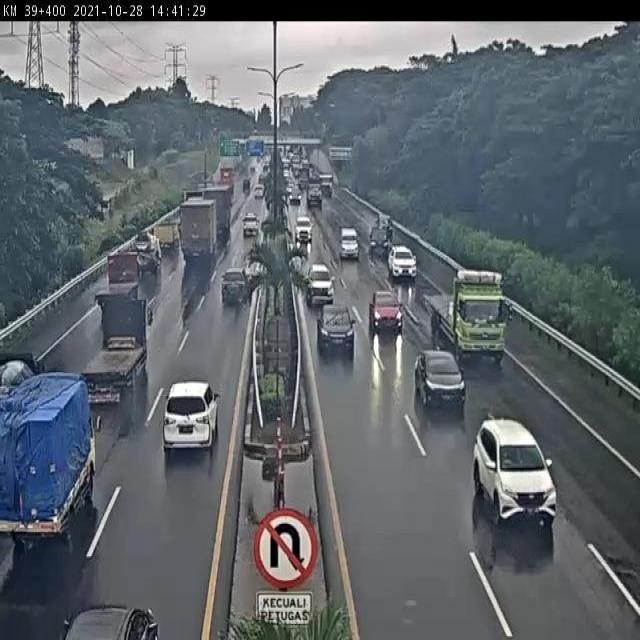car: (473, 418, 558, 526), (160, 379, 219, 452), (415, 350, 466, 410), (316, 304, 354, 355), (368, 289, 402, 336), (305, 264, 334, 305), (221, 268, 248, 305), (388, 245, 417, 279), (340, 227, 359, 257), (369, 229, 388, 255), (295, 217, 313, 243)
mid truck: (422, 269, 506, 363), (180, 199, 218, 257)
small truck: (153, 221, 179, 252)
truck-m-: (0, 368, 103, 541), (79, 298, 152, 406), (96, 253, 139, 307), (130, 230, 163, 278)
